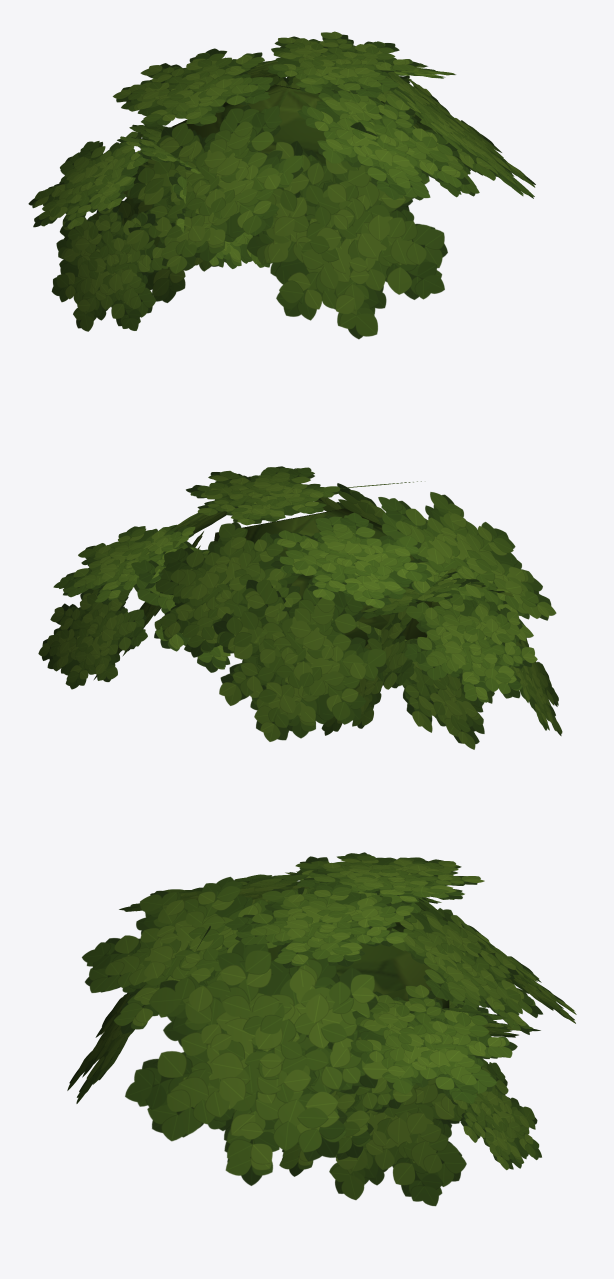
File: bush2.glb
3 renders of one model, top to bottom at view 1: azimuth 30°, elevation 25°; view 2: azimuth 150°, elevation 25°; view 3: azimuth 270°, elevation 25°, orthographic. The views are drawn at different scales.
Parts seen in each view (by area): view 1: Bush; view 2: Bush; view 3: Bush.
Part boxes in pixels (x1,y1,x2,y2): Bush: (28,31,535,339); Bush: (38,466,562,749); Bush: (67,852,576,1206).
Size of the model in its own units: 3.7 by 1.91 by 3.15.
1 material, 1 textured.
